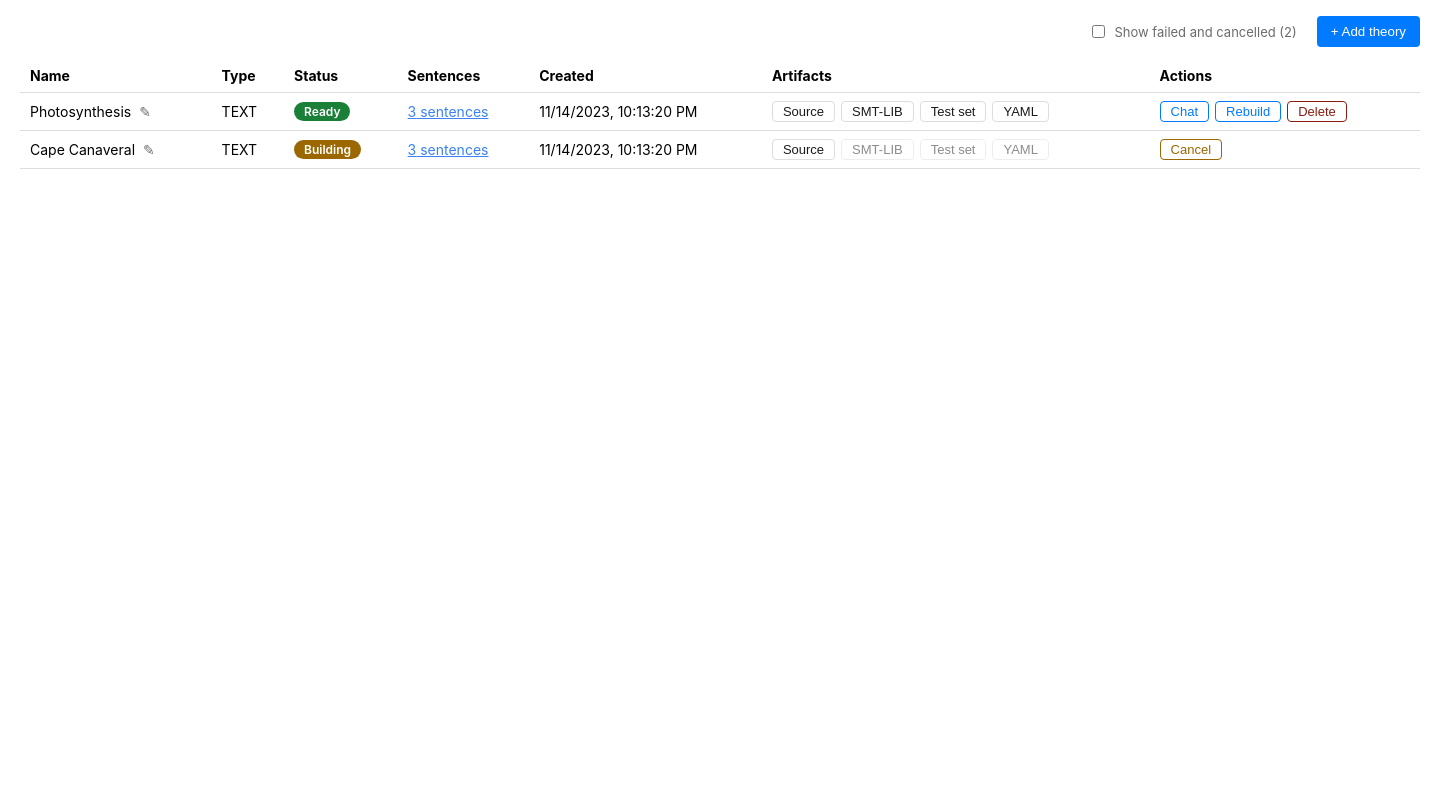
Test case: a new theory whose name is taken must be renamed before building
The image size is (1440, 810).
Click the button "+ Add theory" at point(1368, 32), box [1317,16,1420,47]
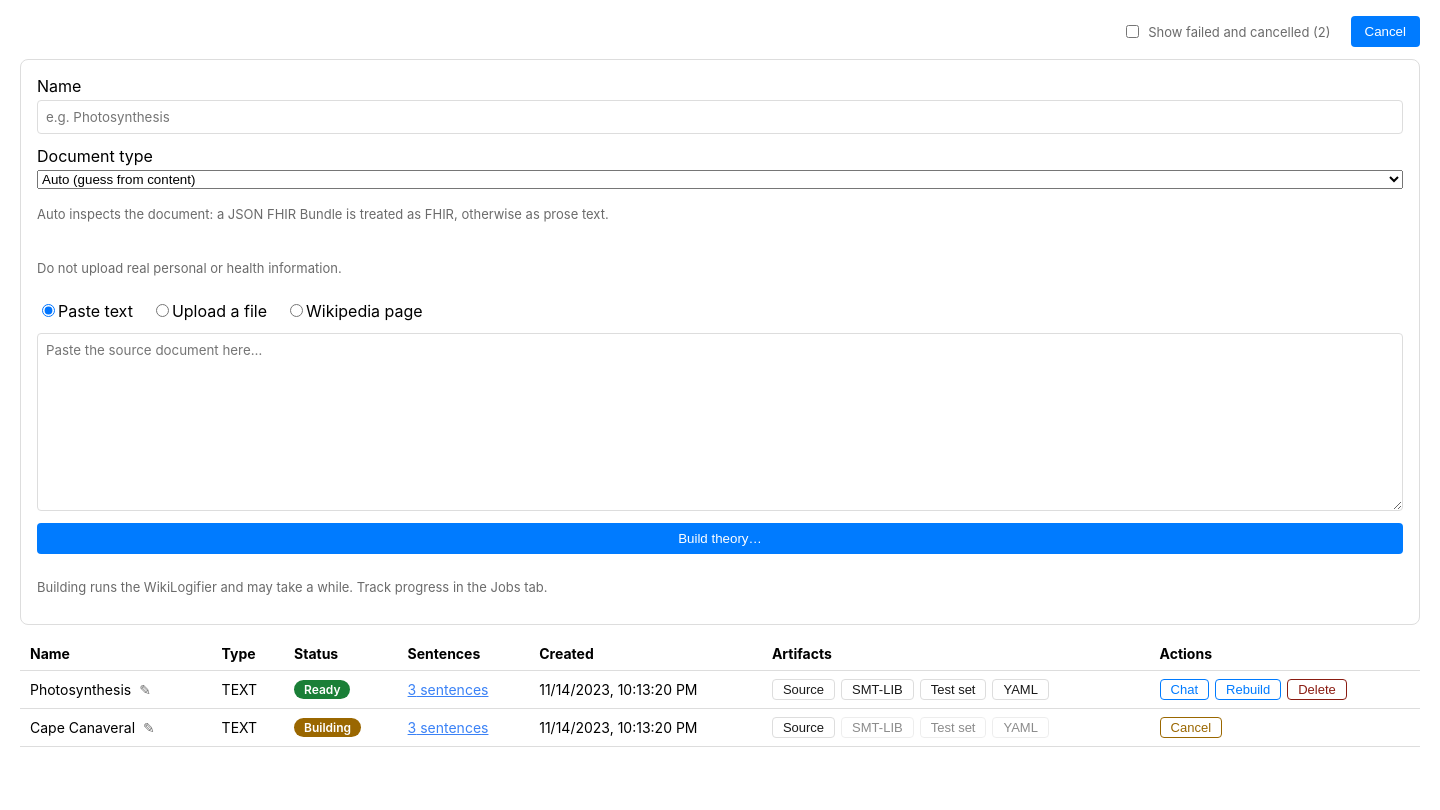
Type "TIDES" into the field labelled "Name" at point(720, 117), box [37,100,1403,134]
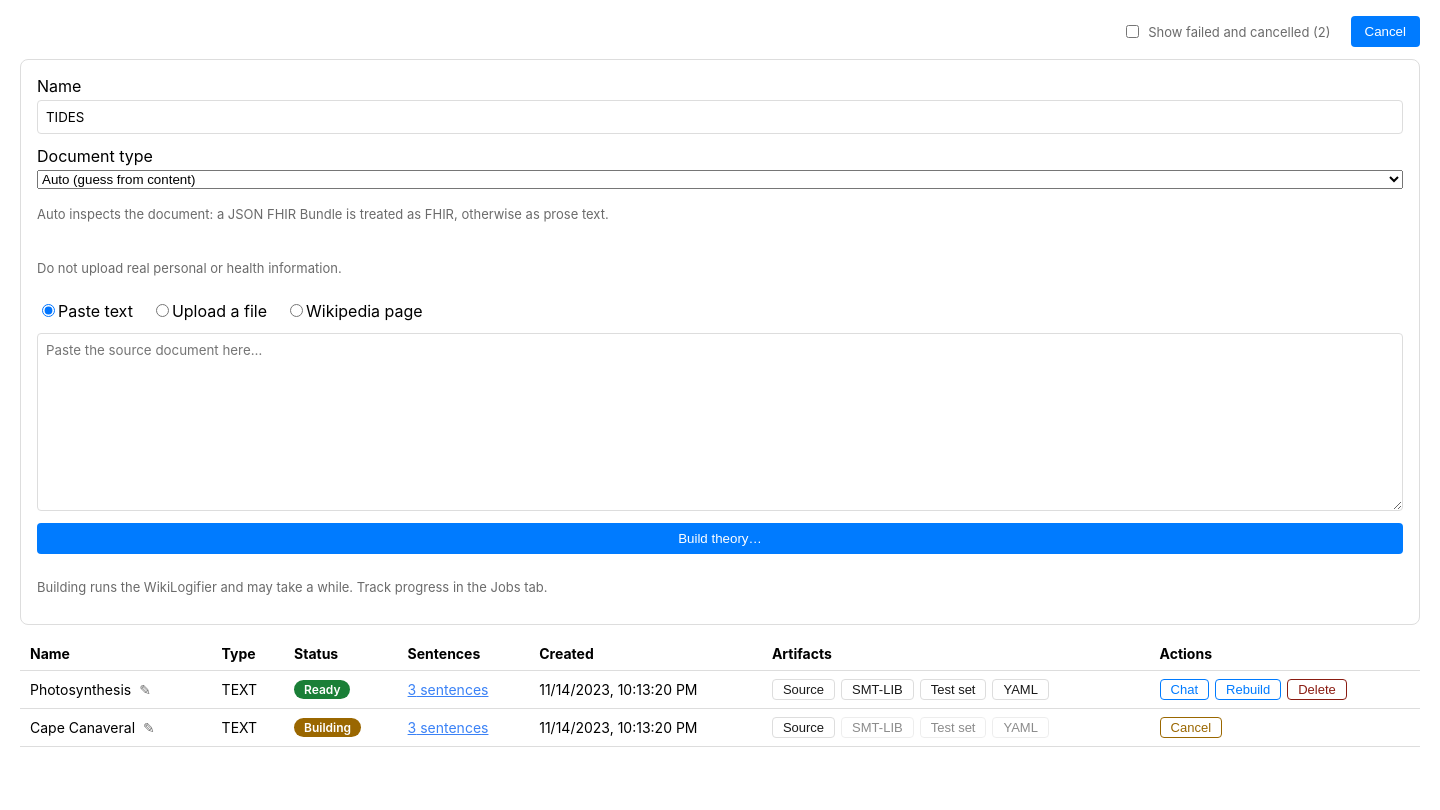
Type "The moon causes tides." into the text box with placeholder "Paste the source document here…" at point(720, 422), box [37,333,1403,511]
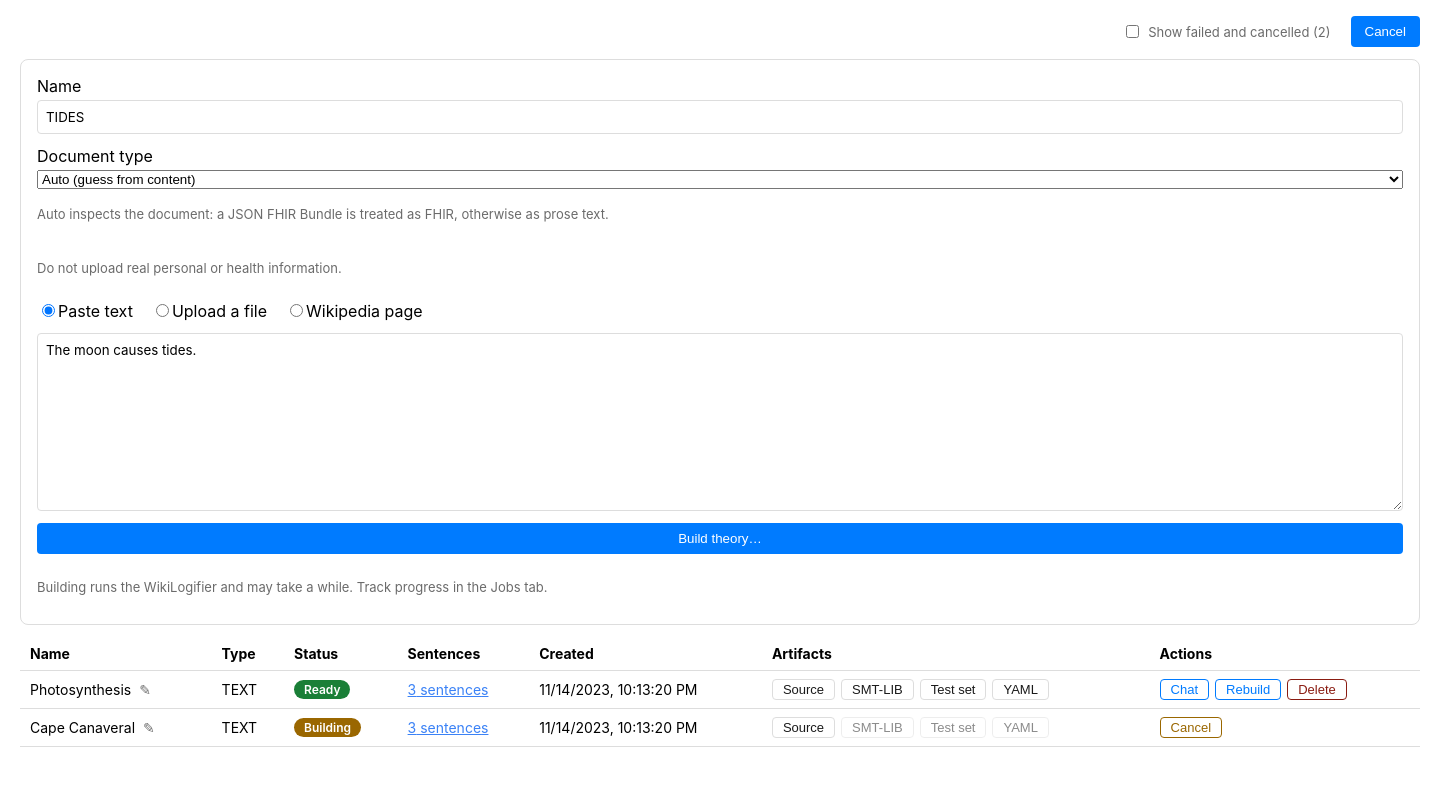
Click the button "Build theory…" at point(720, 538), box [37,523,1403,554]
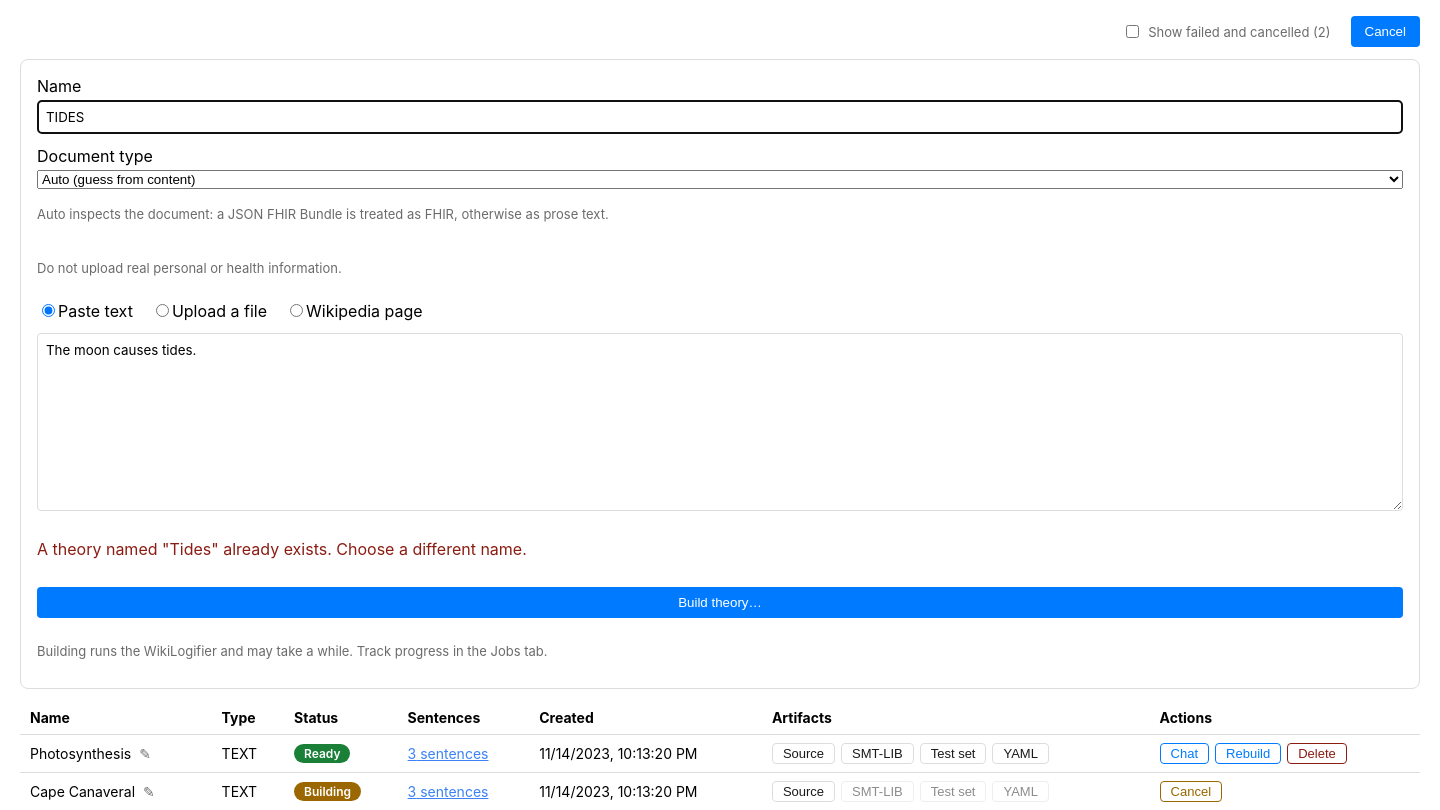
Check: the text "A theory named \"Tides\" already exists. Choose a different name." is shown, box [37,539,527,559]
